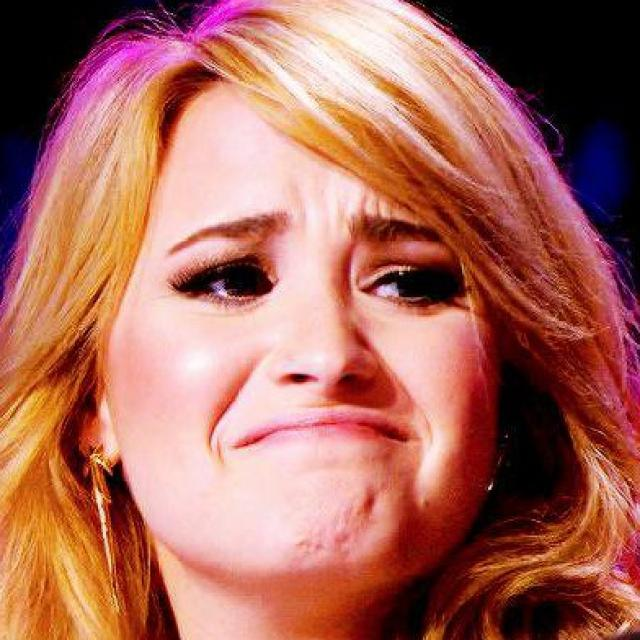Depress: (87, 57, 504, 591)
